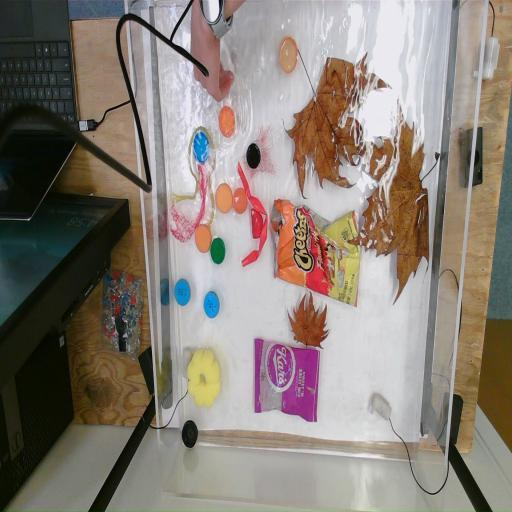Bottle Cap: (279, 38, 298, 72), (180, 416, 200, 448), (218, 104, 236, 138), (233, 183, 249, 217), (216, 184, 234, 214), (194, 224, 212, 254), (192, 132, 210, 162), (203, 290, 220, 319), (210, 238, 226, 266), (246, 140, 260, 172), (176, 280, 190, 308)
Cone Cap: (250, 206, 264, 241)
Leaf: (279, 52, 384, 191), (366, 96, 430, 310), (284, 288, 330, 352)
Netting: (168, 164, 208, 242), (240, 124, 274, 183)
Plastic Bag: (272, 192, 362, 310), (252, 338, 322, 423)
Plastic Strand: (236, 160, 266, 272)
Sponge: (186, 345, 221, 409)
